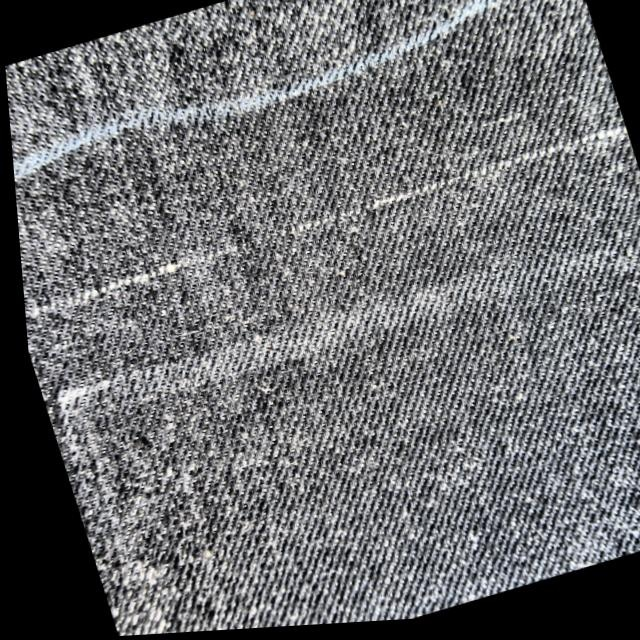Hole: (59, 189, 300, 338), (308, 132, 505, 260), (348, 152, 499, 225)
